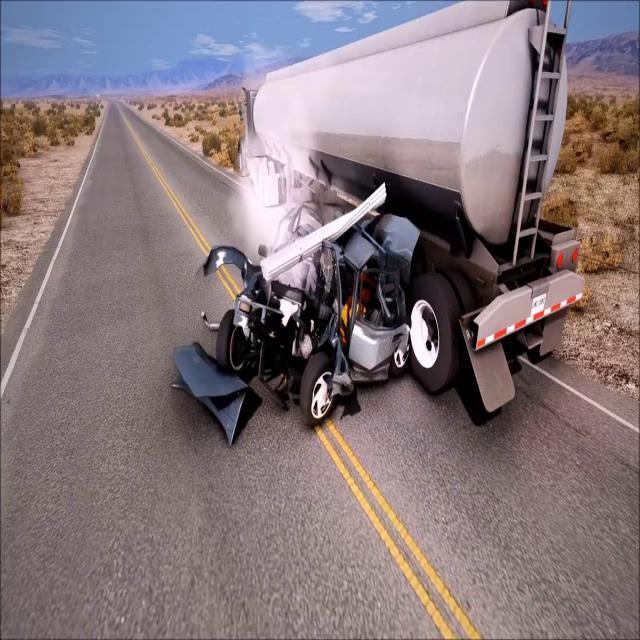accident: (162, 0, 588, 460)
